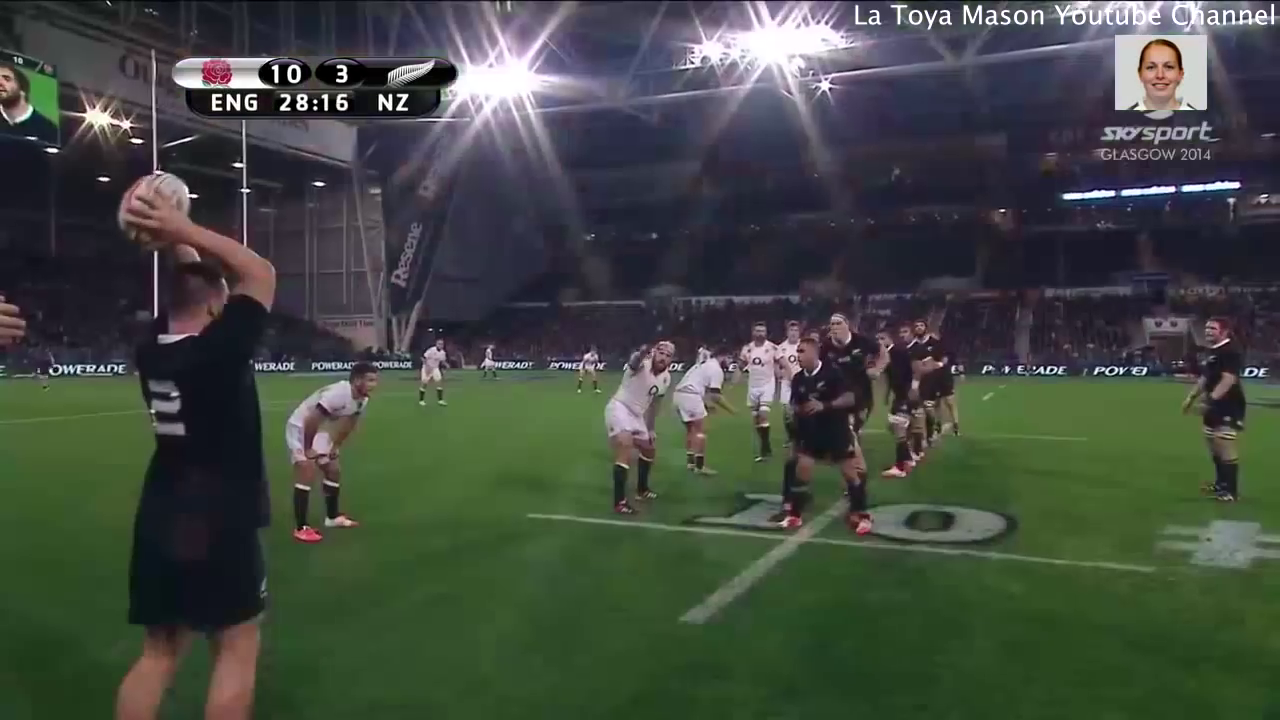10_metre: (523, 469, 1151, 636)
ball: (102, 168, 202, 246)
player: (93, 160, 299, 720), (777, 340, 879, 548), (275, 356, 379, 548), (1171, 308, 1261, 524), (590, 338, 679, 527), (803, 307, 890, 443), (670, 332, 742, 484), (723, 314, 792, 464), (864, 327, 929, 483), (894, 314, 941, 457), (773, 308, 819, 419), (408, 334, 460, 414), (928, 339, 968, 435), (912, 307, 944, 378), (571, 341, 605, 397), (478, 340, 502, 388)
